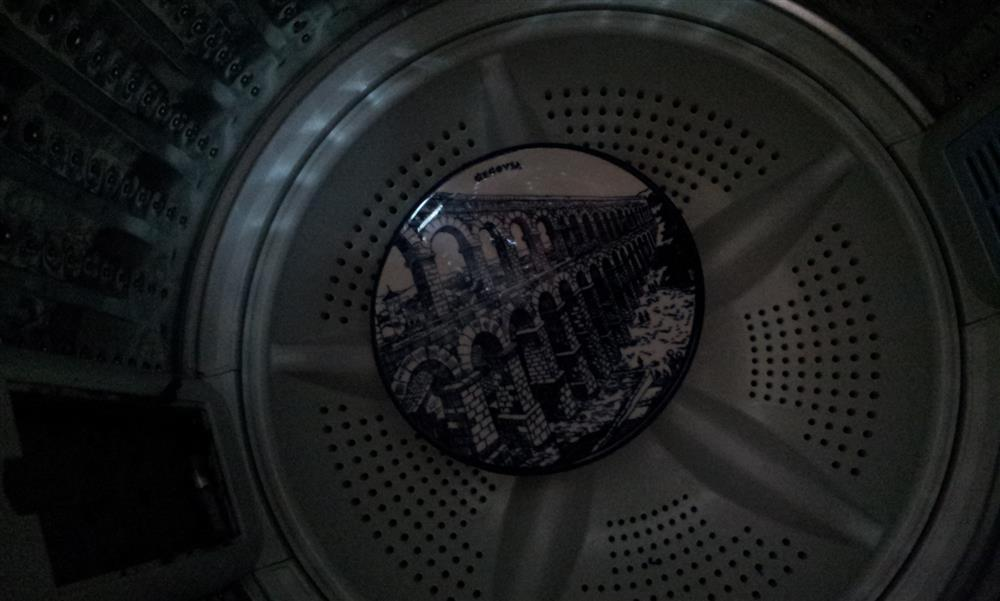plate: (351, 145, 711, 484)
